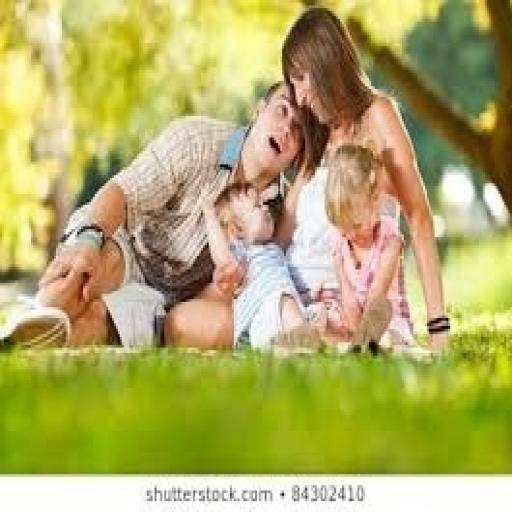sitting: (2, 6, 452, 358)
